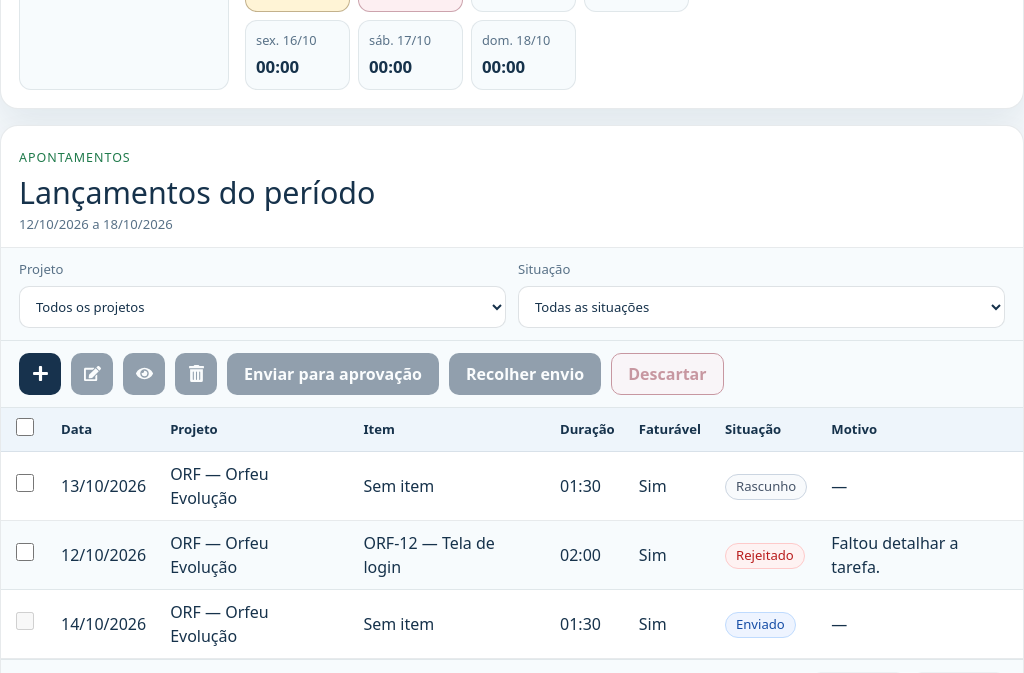
Test: Meus apontamentos › exclui o rascunho marcado e mostra a falha dentro da confirmação
(page scrolled)
Expected: the heading "Lançamentos do período" is shown, [19,174,375,210]
Click the checkbox named "Selecionar apontamento de 13/10/2026 em ORF". click: (25, 483)
box: [16,474,34,492]
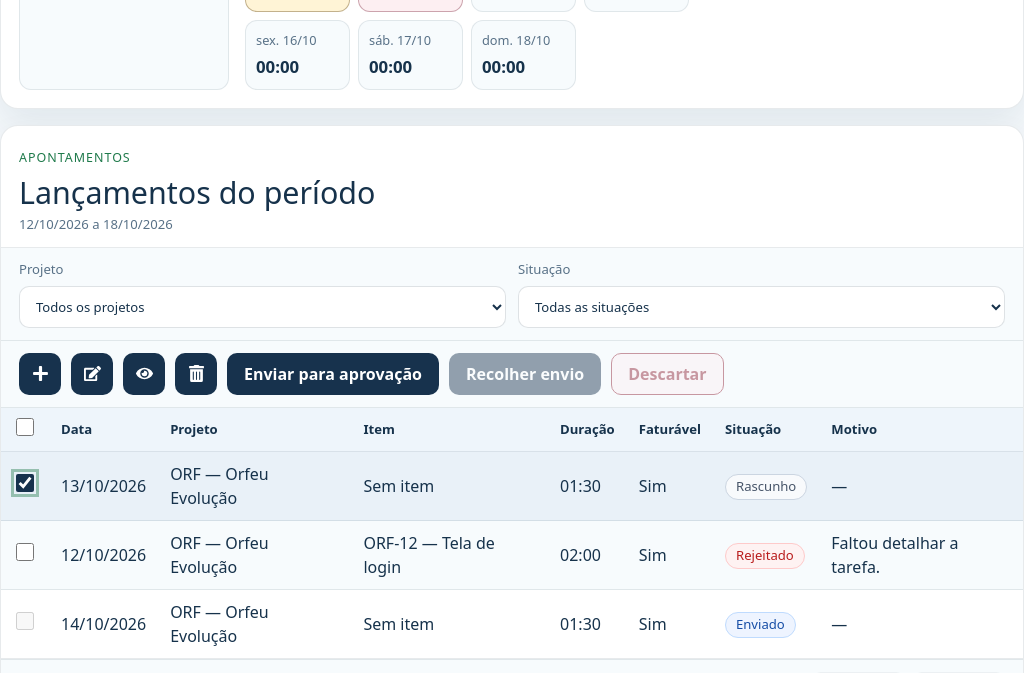
Click the button named "Excluir rascunhos marcados". click: (196, 374)
box: [175,352,217,394]
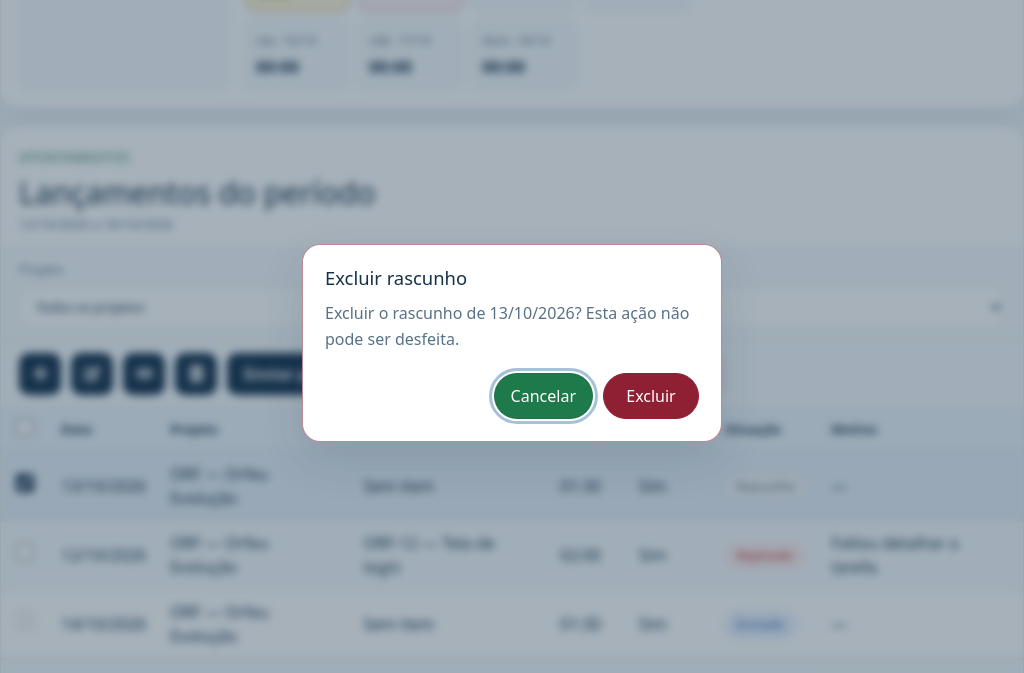
Now the dialog "Excluir rascunho" shows "Excluir o rascunho de 13/10/2026? Esta ação não pode ser desfeita.", box [325,302,689,350]
Click the button "Excluir". click: (651, 396)
box: [603,373,699,419]
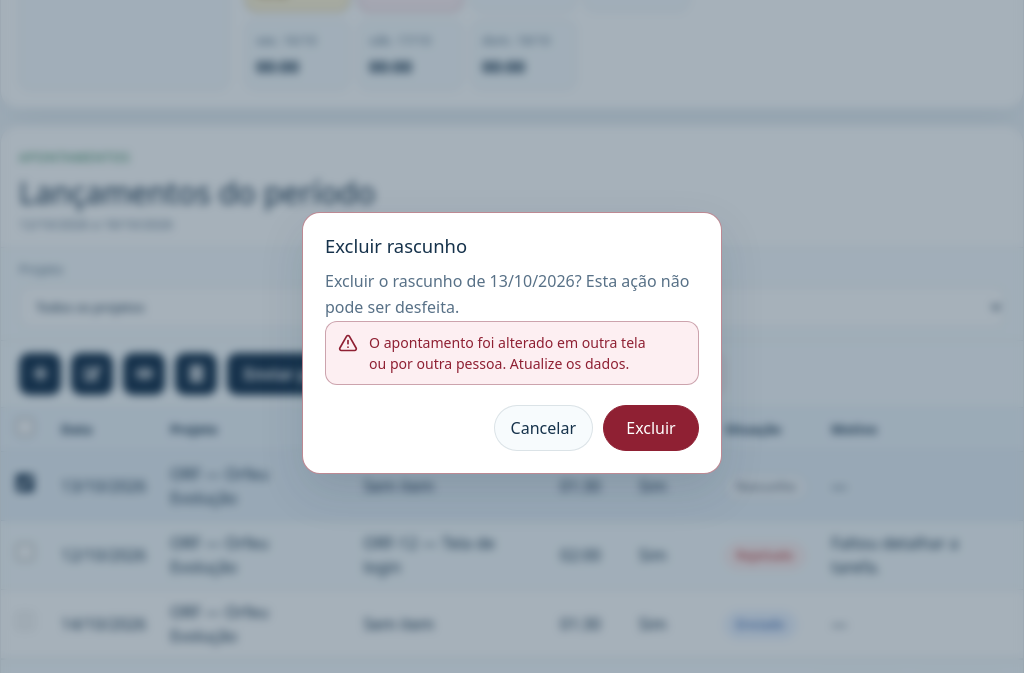
Now the message shows "O apontamento foi alterado em outra tela ou por outra pessoa.", box [369,332,646,373]
Click the button "Excluir". click: (651, 428)
box: [603,405,699,451]
(page scrolled)
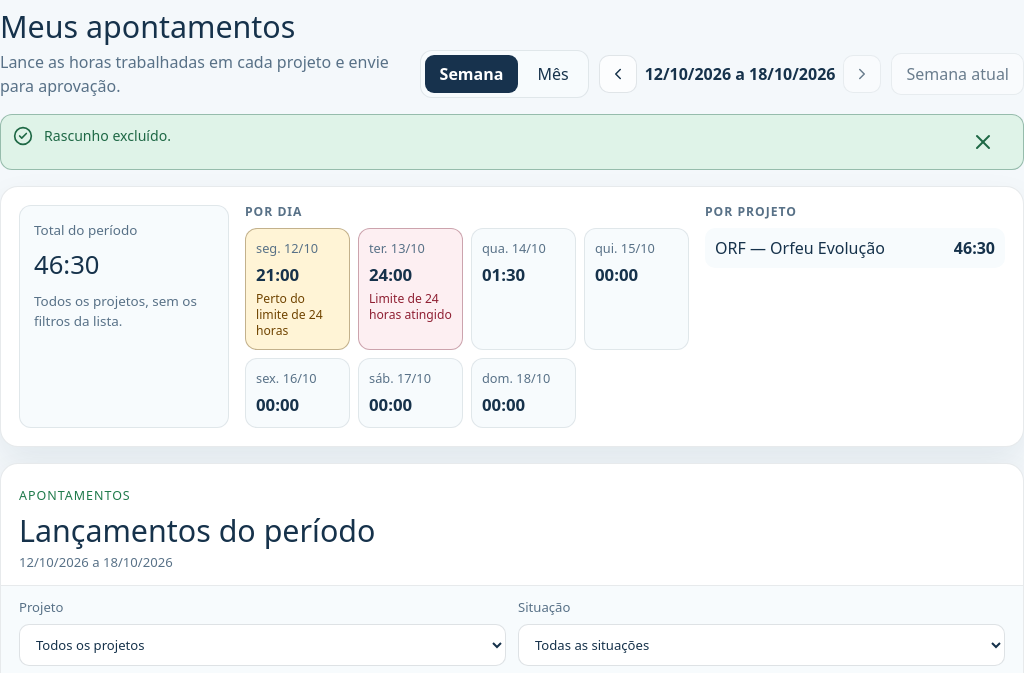
Now the text "Rascunho excluído." is shown, box [44,126,171,145]
Now the dialog is gone
